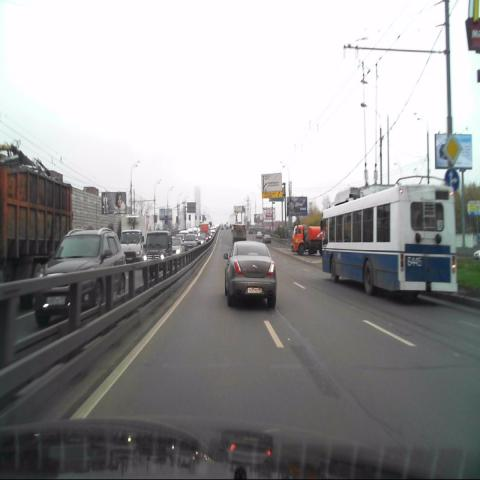4_1_4: (443, 169, 459, 194)
